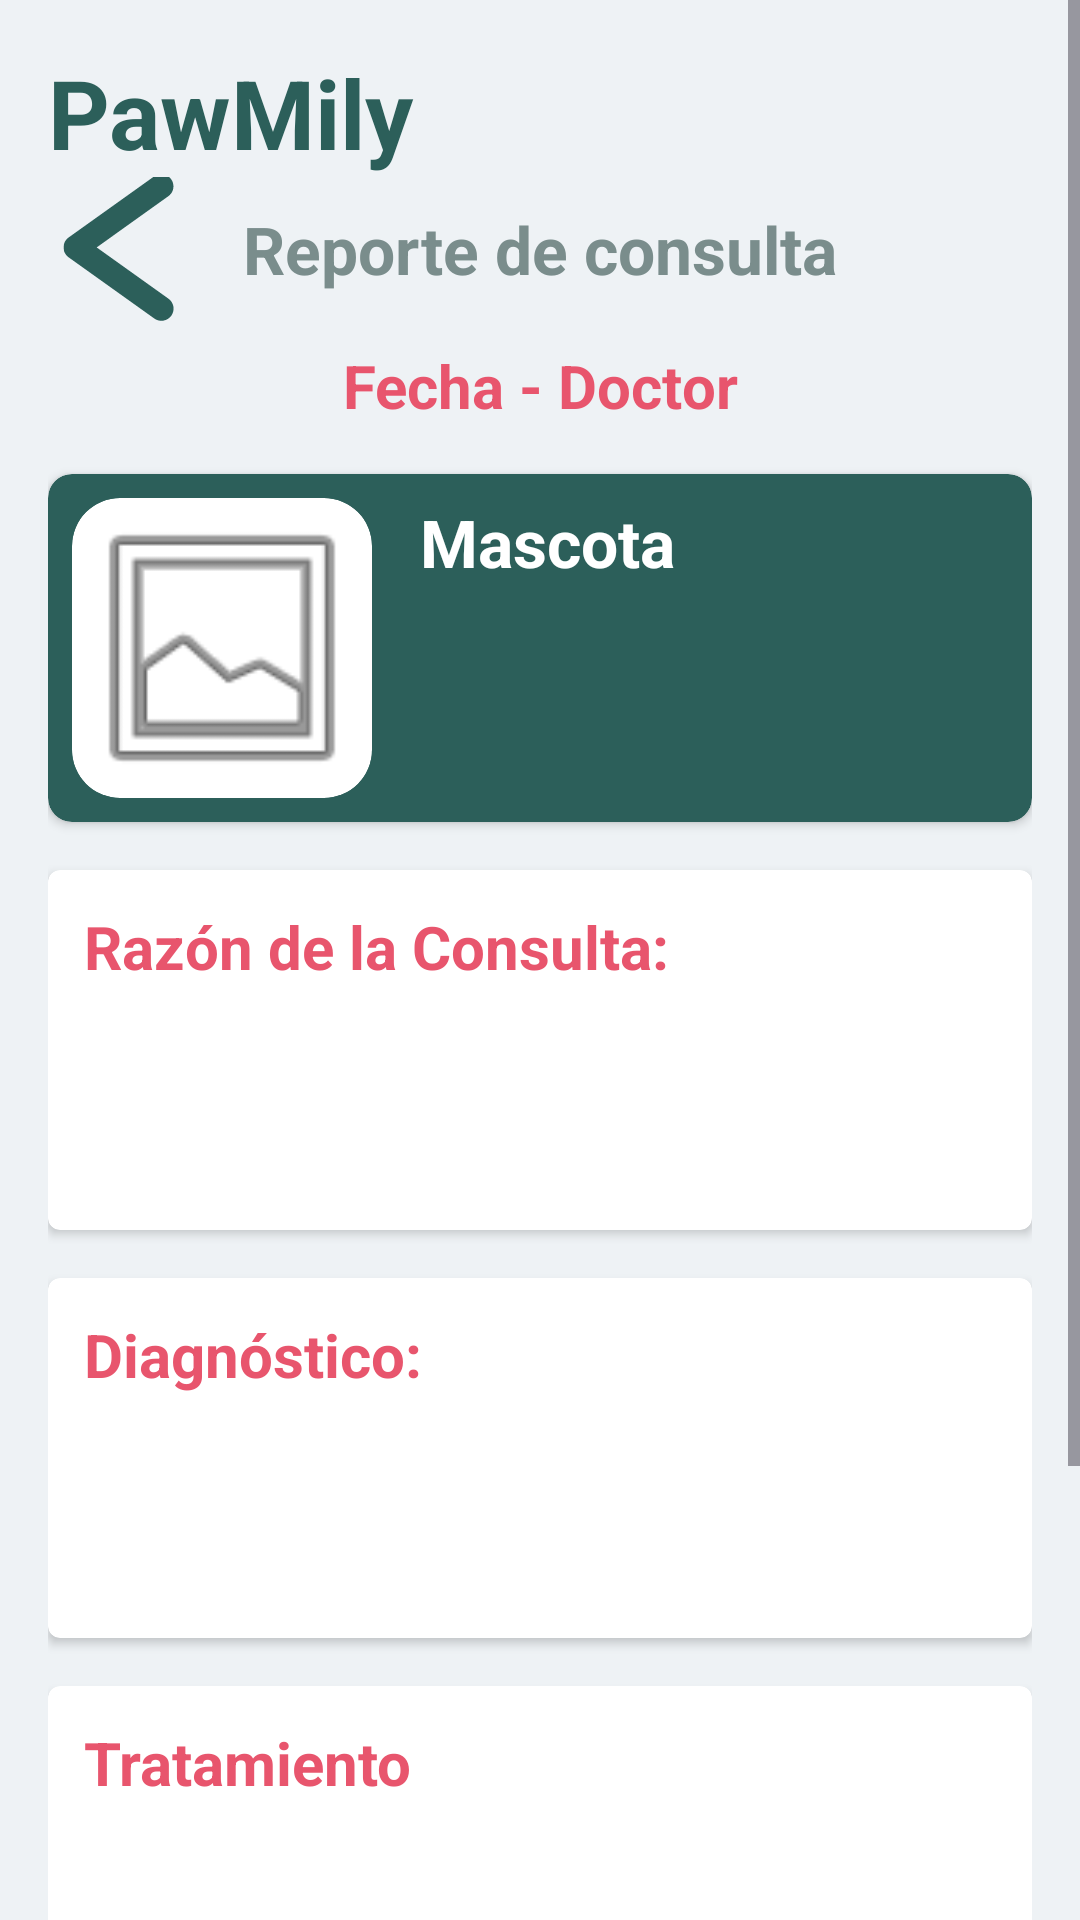

Where to tap for icons on this 1080 x 1920 app screen, as (x,y):
gallery: (222,648)
left: (118,249)
